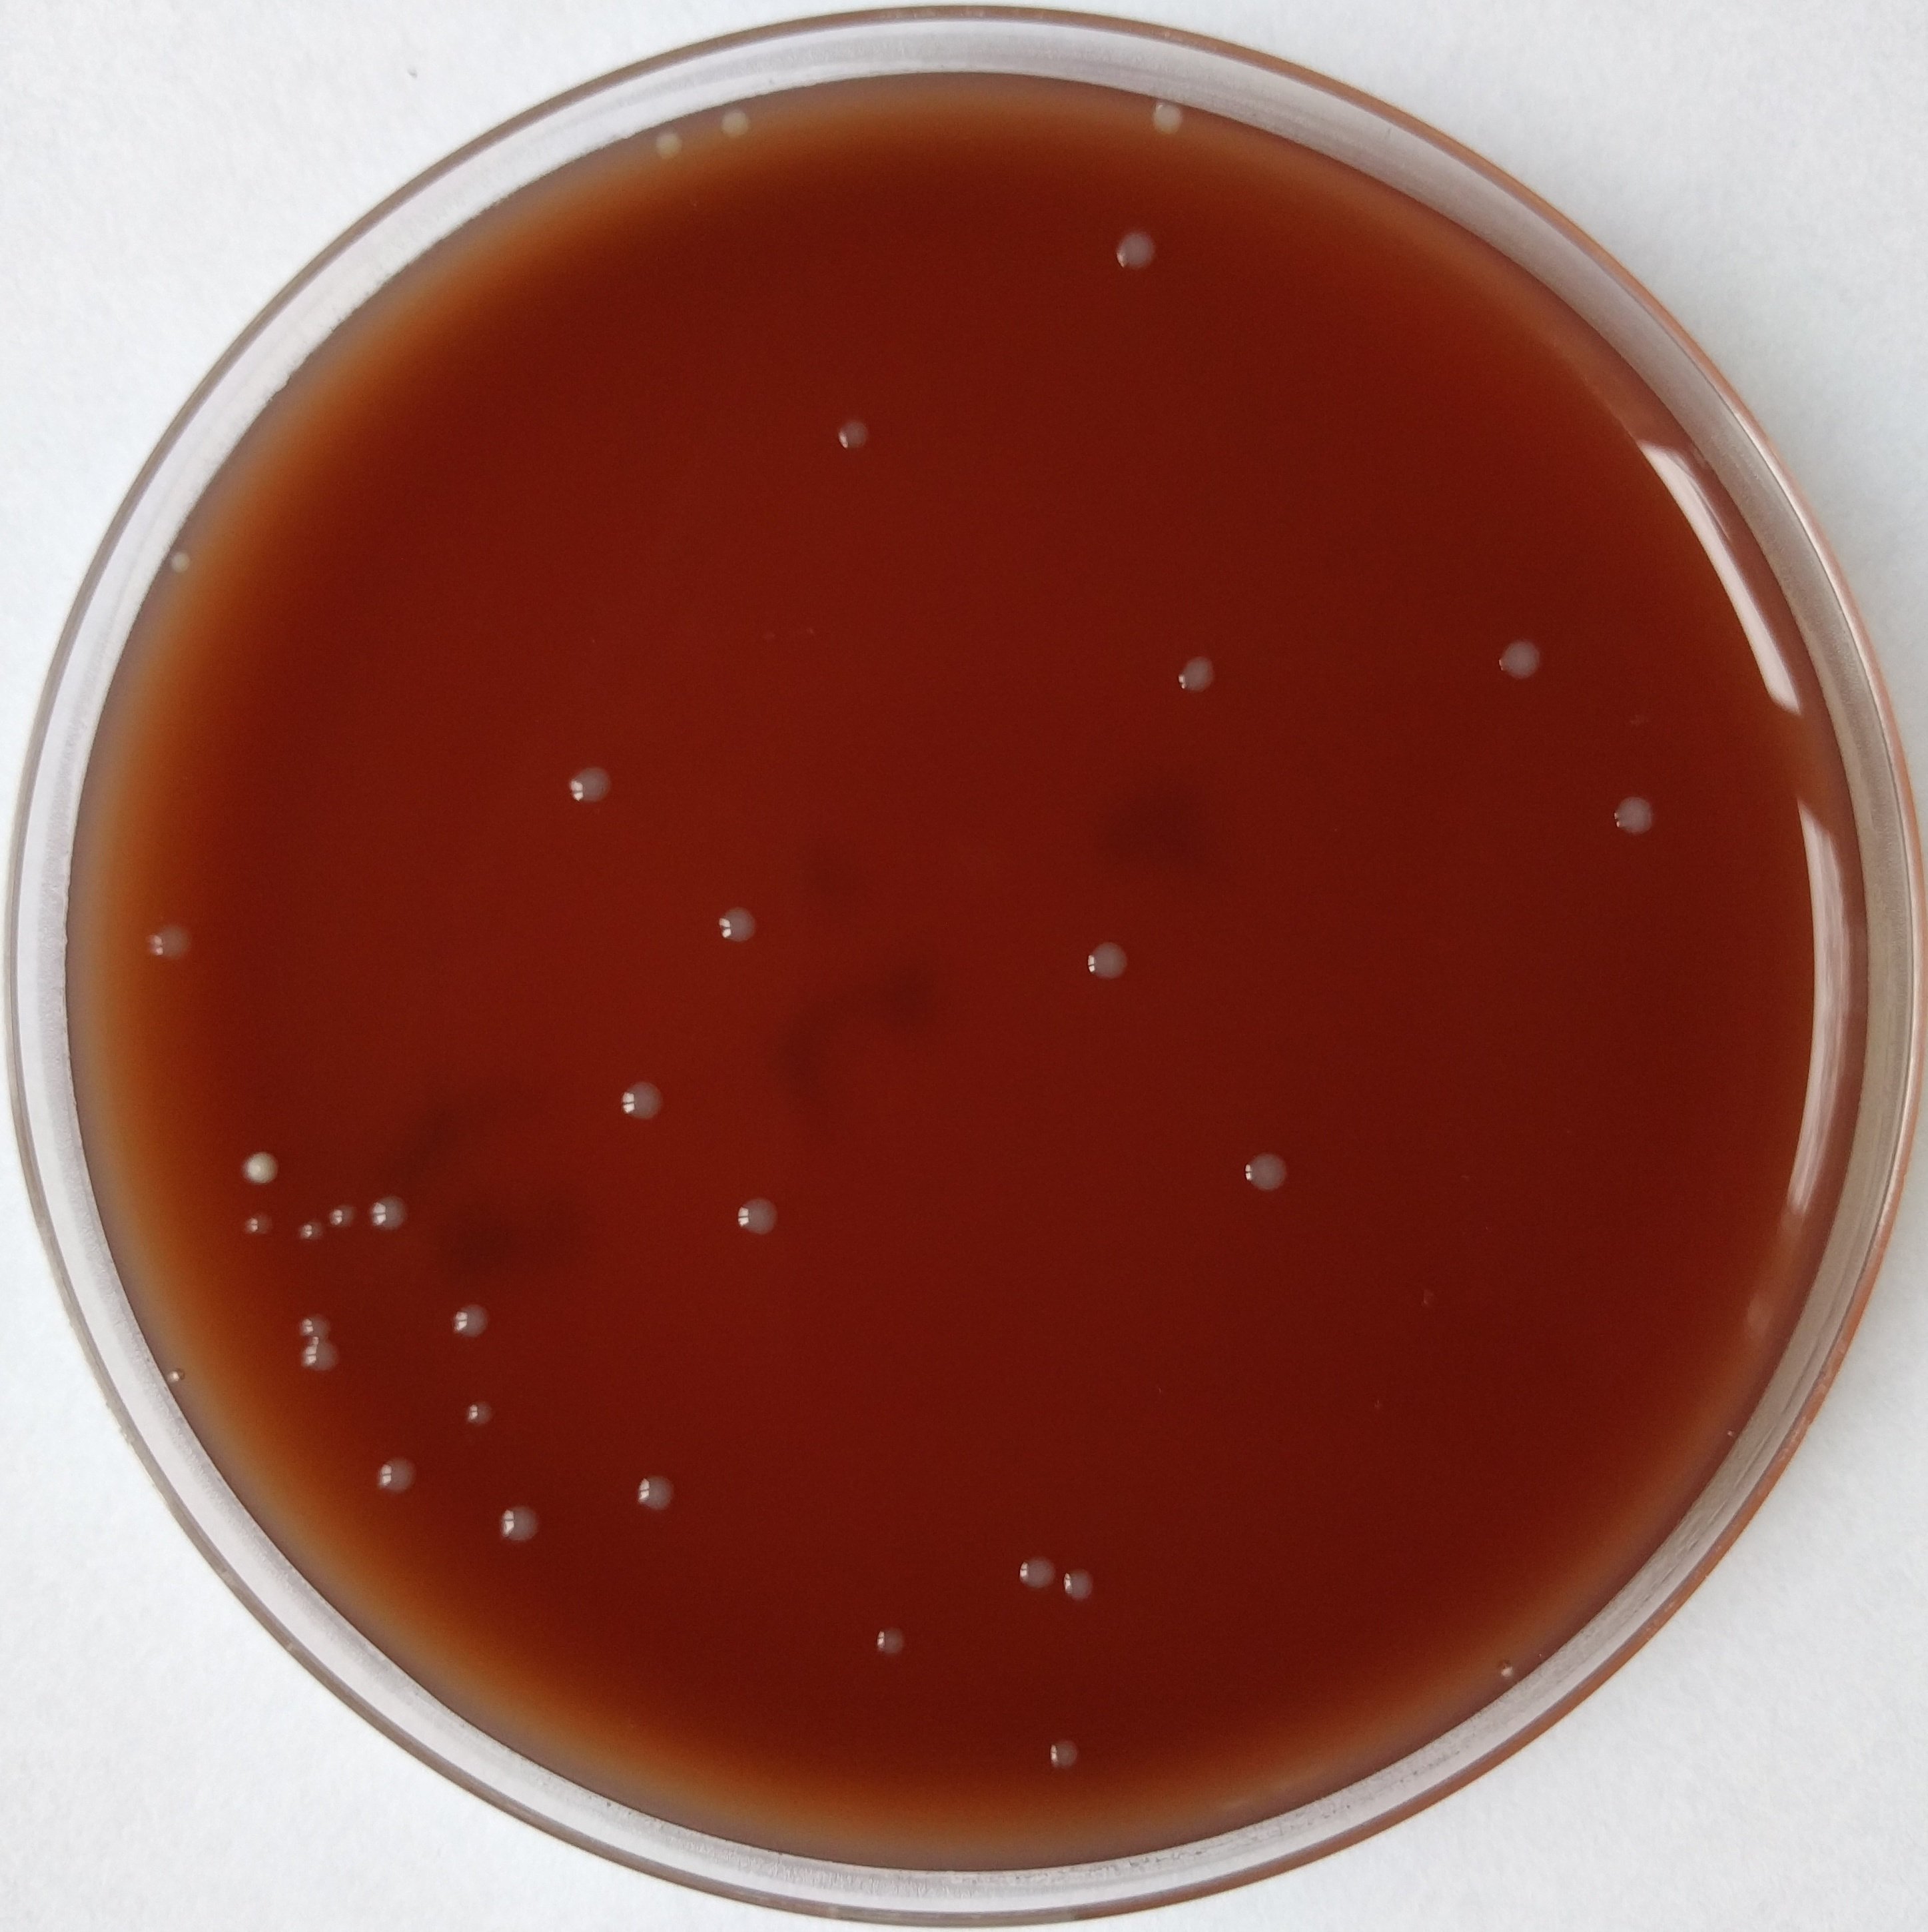sp16: (1485, 622, 1582, 712), (1232, 1136, 1307, 1222), (129, 904, 230, 966), (1605, 779, 1679, 857), (825, 397, 899, 468), (729, 1178, 798, 1254), (1103, 223, 1165, 288), (1164, 634, 1216, 708), (364, 1178, 420, 1245), (1038, 1718, 1089, 1791), (708, 895, 763, 962), (611, 1067, 671, 1127), (489, 1487, 546, 1551), (231, 1128, 288, 1189), (443, 1286, 500, 1344), (1054, 1559, 1112, 1611), (630, 1464, 683, 1519), (1077, 938, 1137, 985), (565, 759, 627, 804), (373, 1441, 417, 1501), (1133, 88, 1186, 138), (159, 532, 205, 586), (293, 1335, 343, 1383), (874, 1612, 920, 1664), (643, 127, 694, 171), (1008, 1552, 1059, 1596), (222, 1204, 275, 1245), (288, 1303, 351, 1337), (719, 95, 759, 141), (288, 1208, 325, 1249), (464, 1395, 500, 1429), (327, 1192, 351, 1233)
